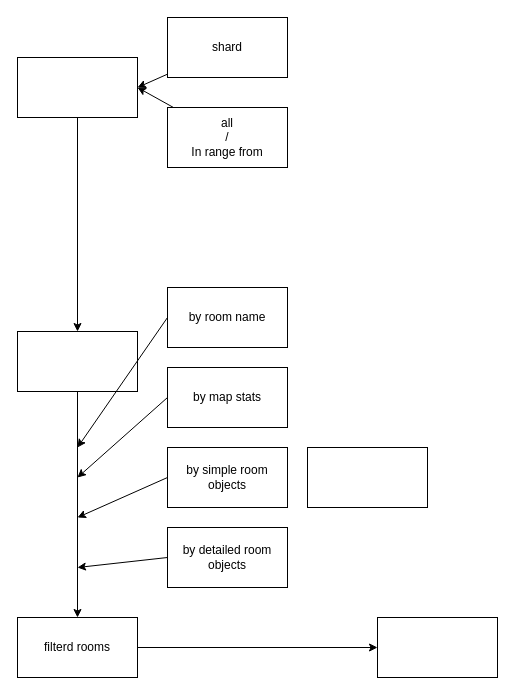
Image size: 515x695. Some labels were removed from this diagram. The centre of each missing label's shape, as x and y in pixels:
by room terrain: (367,477)
filter: (77,361)
Input rooms: (77,87)
show result: (437,647)
